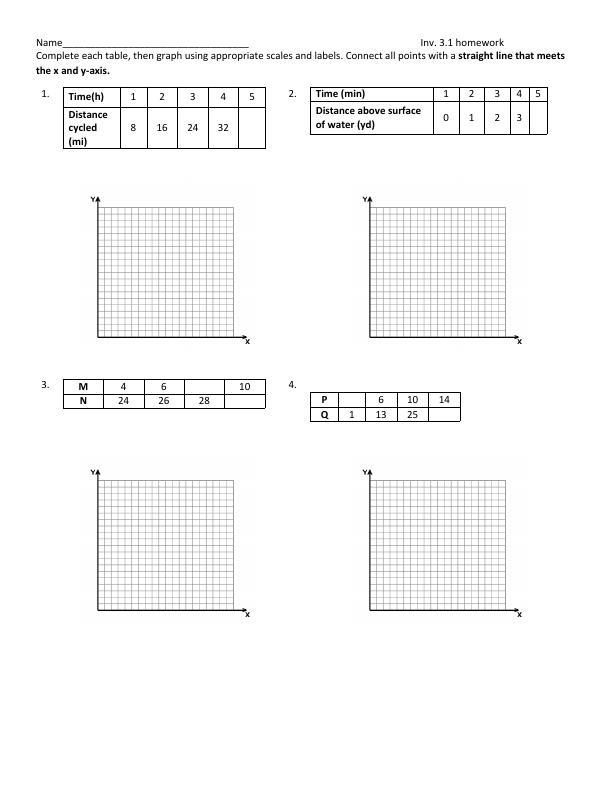input: (63, 35, 248, 50)
table: (302, 77, 555, 144), (55, 82, 272, 156), (57, 376, 272, 417), (304, 386, 467, 429)
text: (34, 51, 572, 77), (35, 36, 62, 48)
